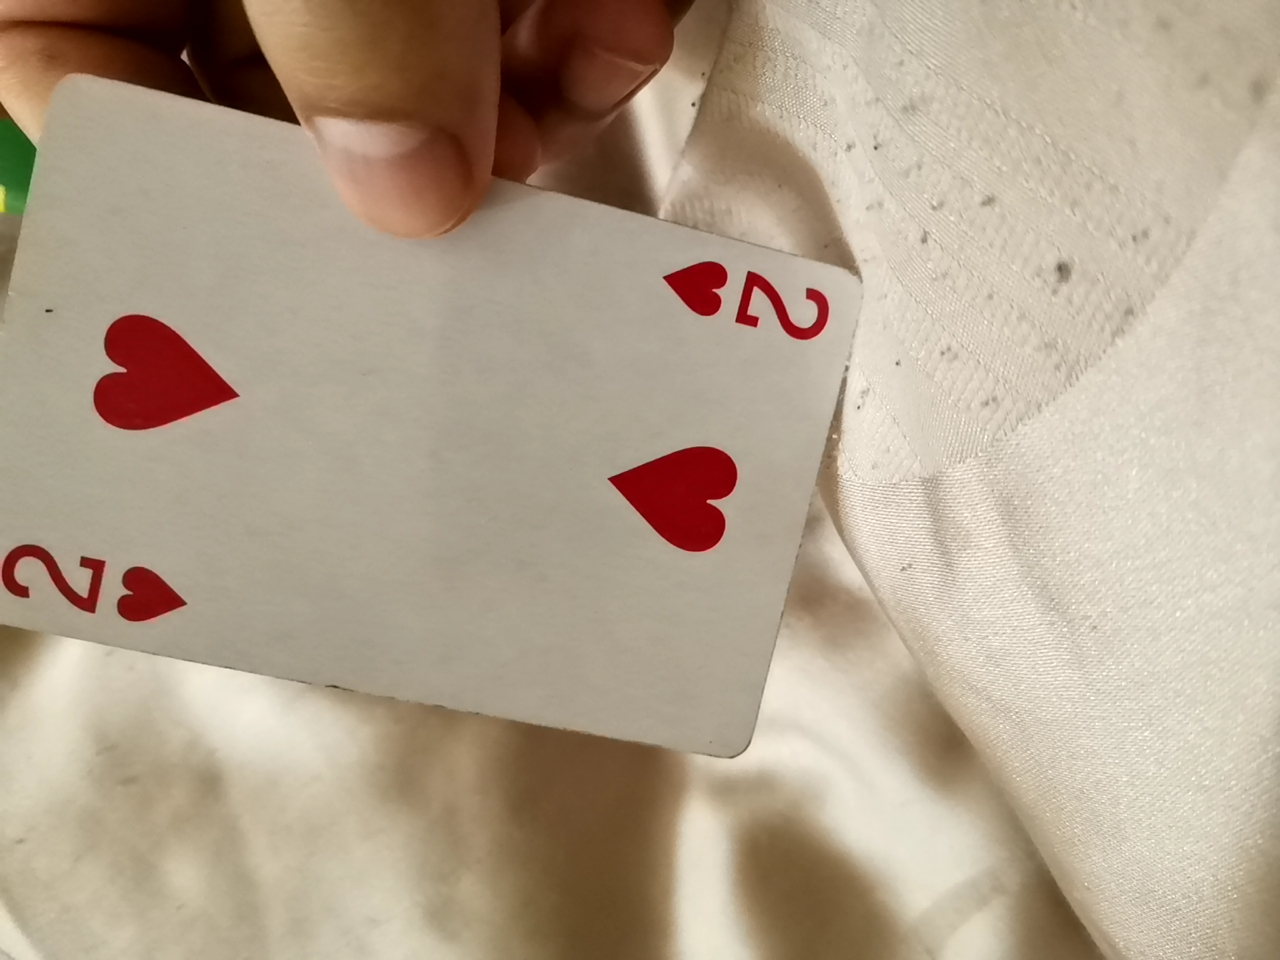hx 2: (6, 59, 882, 800)
